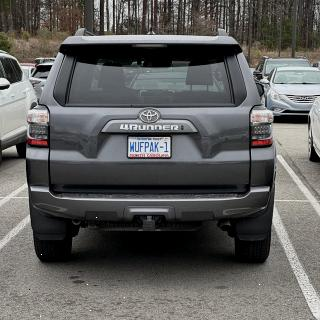license: (128, 137, 174, 160)
